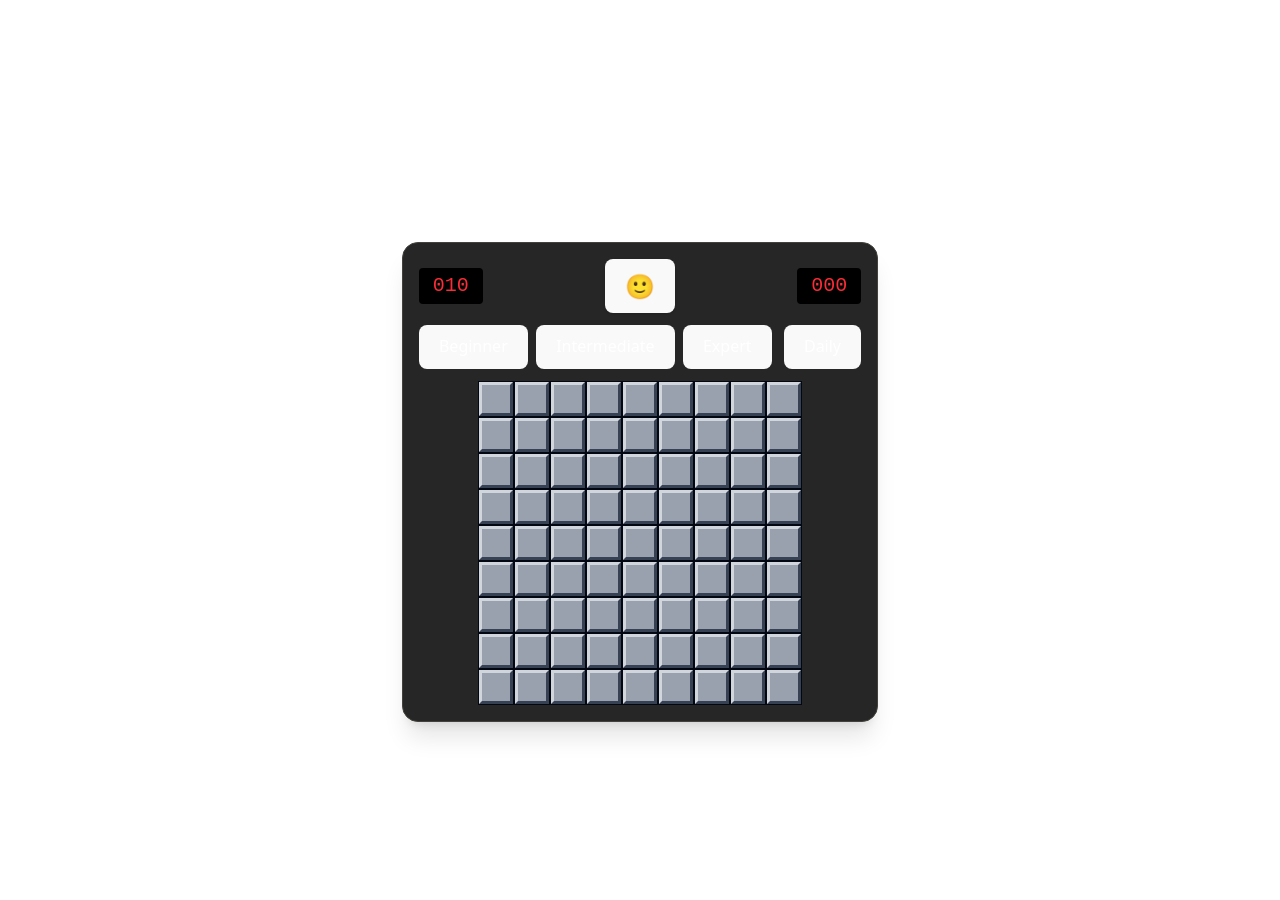
Test case: Minesweeper › changing presets updates mine counter
expect the text "010" is shown: met, box x1=419 y1=268 x2=483 y2=304
Click the button "Intermediate" at (605, 347), box x1=536 y1=325 x2=675 y2=369
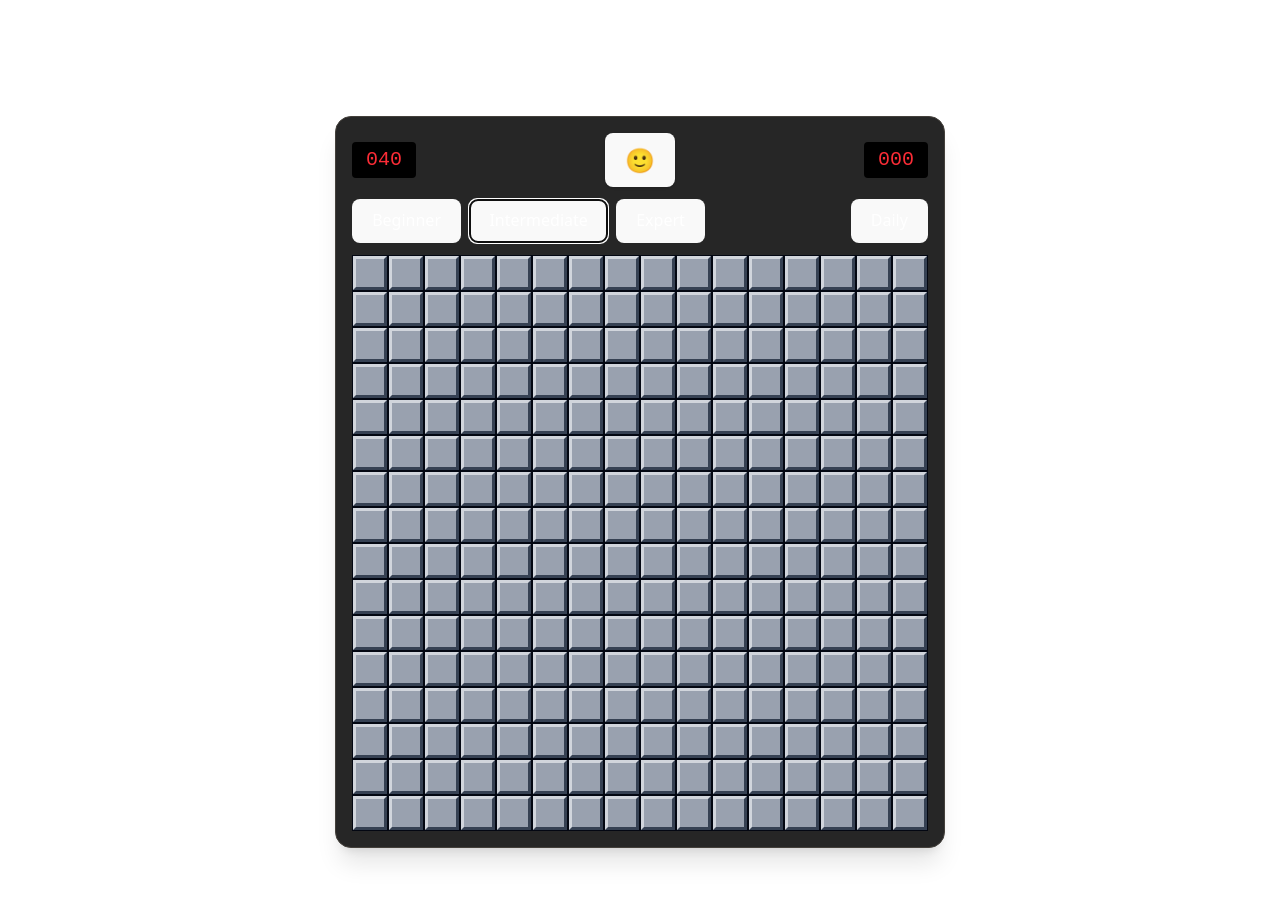
expect the text "040" is shown: met, box x1=352 y1=142 x2=416 y2=178
Click the button "Expert" at (660, 221), box x1=616 y1=199 x2=705 y2=243
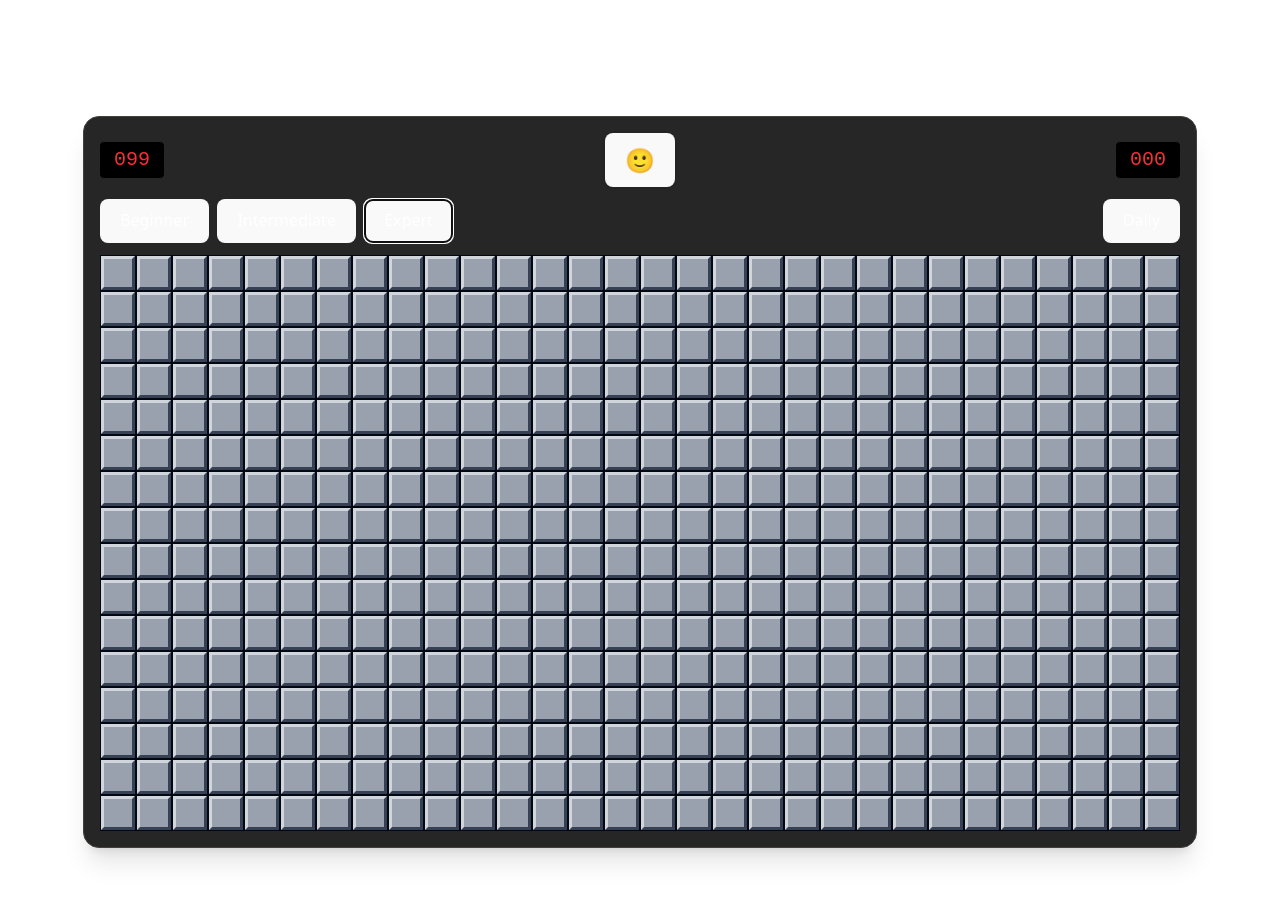
expect the text "099" is shown: met, box x1=100 y1=142 x2=164 y2=178
